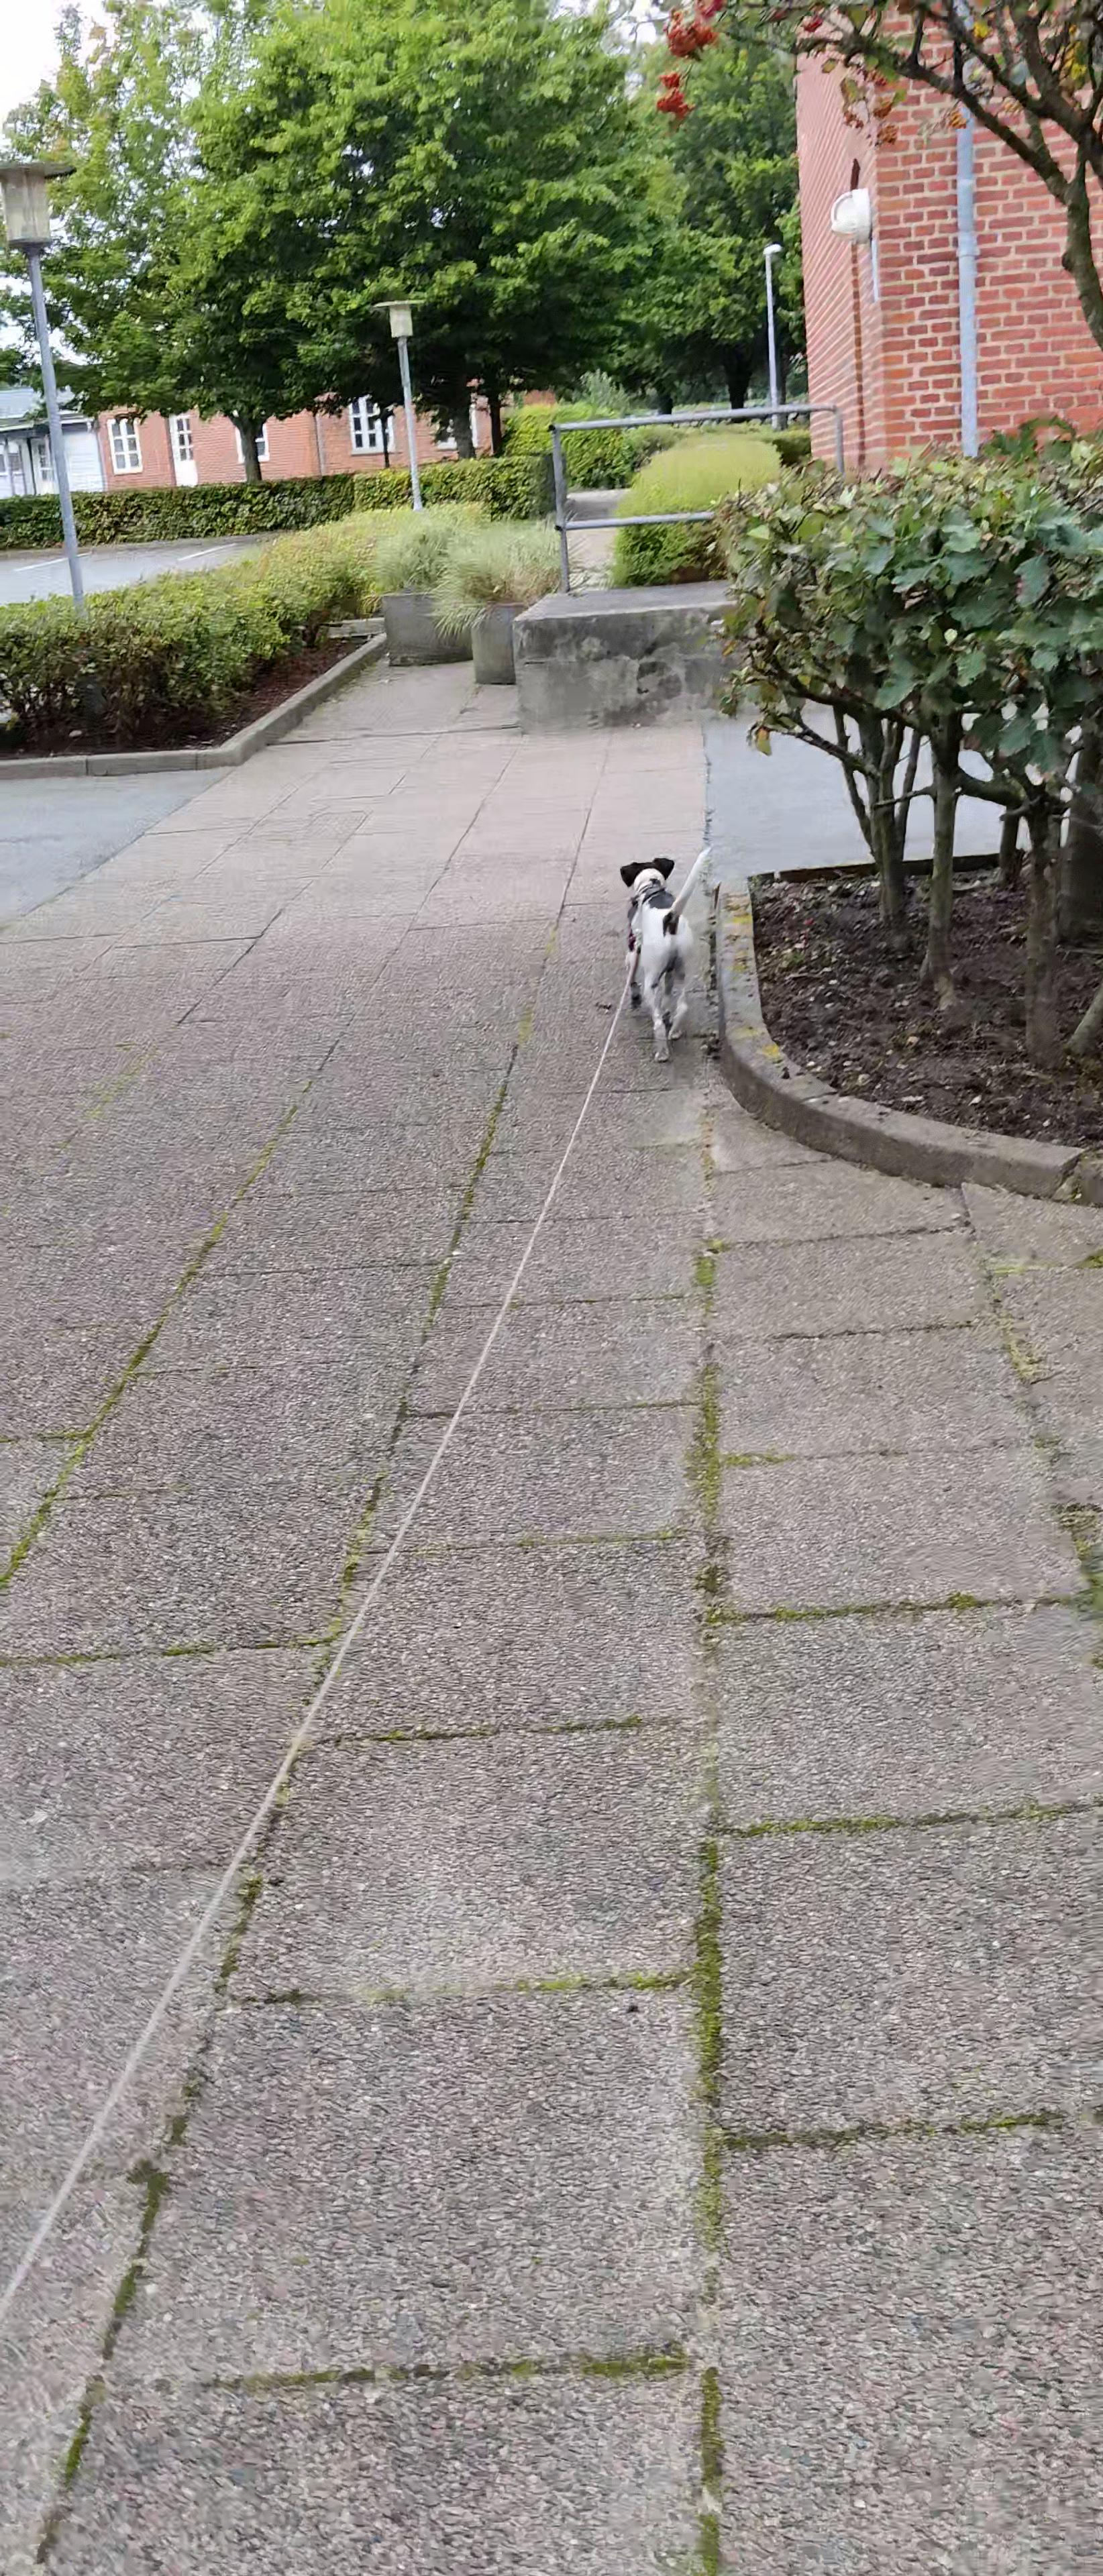Dog: (620, 841, 717, 1061)
